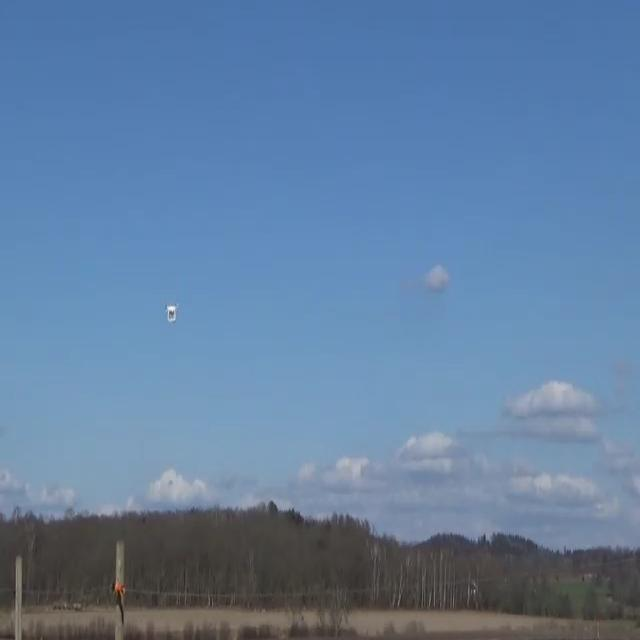Drone: (154, 289, 185, 331)
